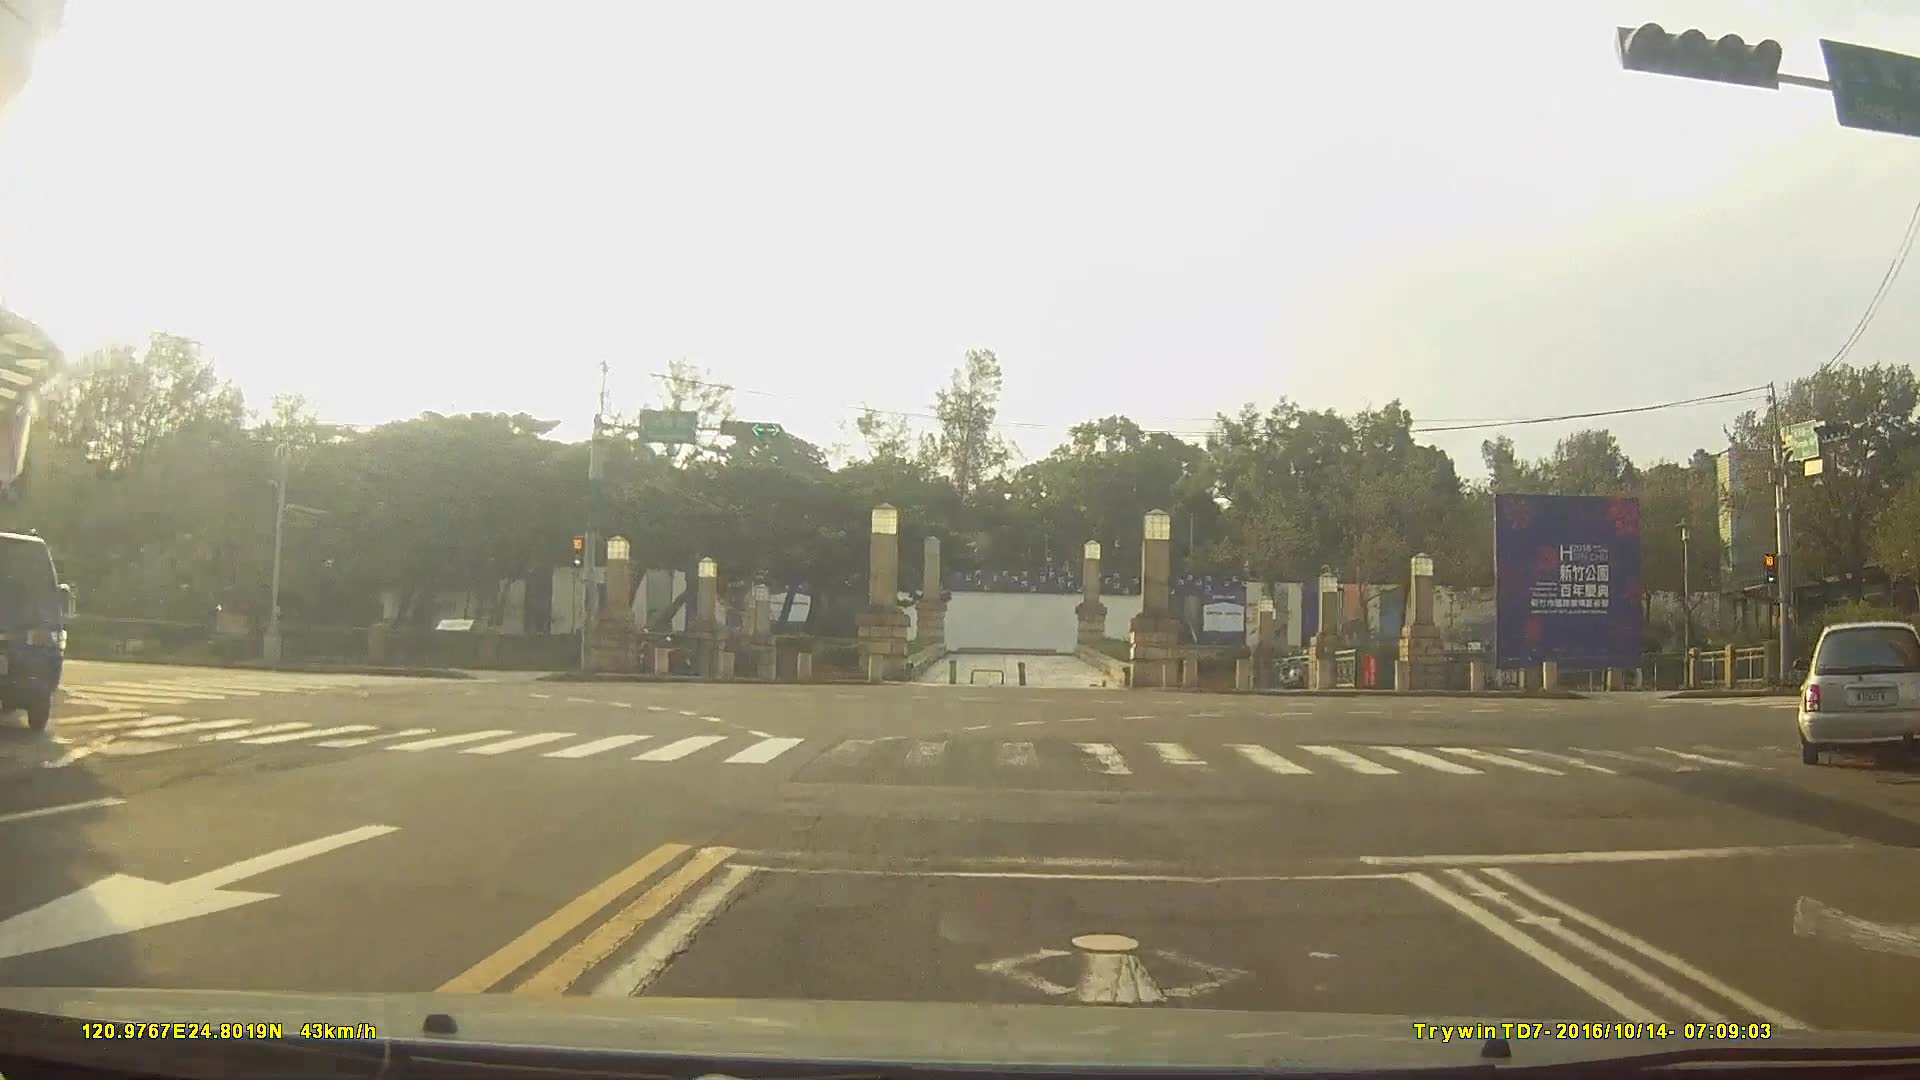vehicle: (1797, 618, 1920, 762), (0, 526, 67, 735)
